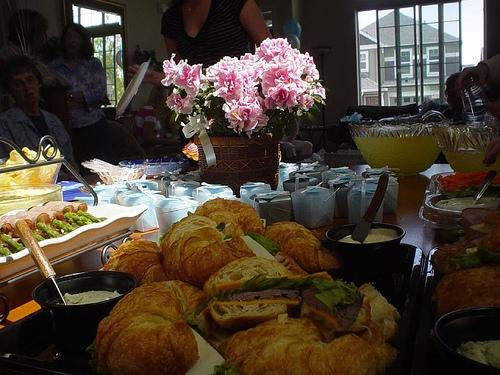asparagus: (0, 234, 26, 252), (36, 222, 63, 238), (77, 209, 107, 223), (64, 212, 94, 225), (52, 218, 76, 233), (32, 232, 46, 242), (1, 245, 13, 256)
